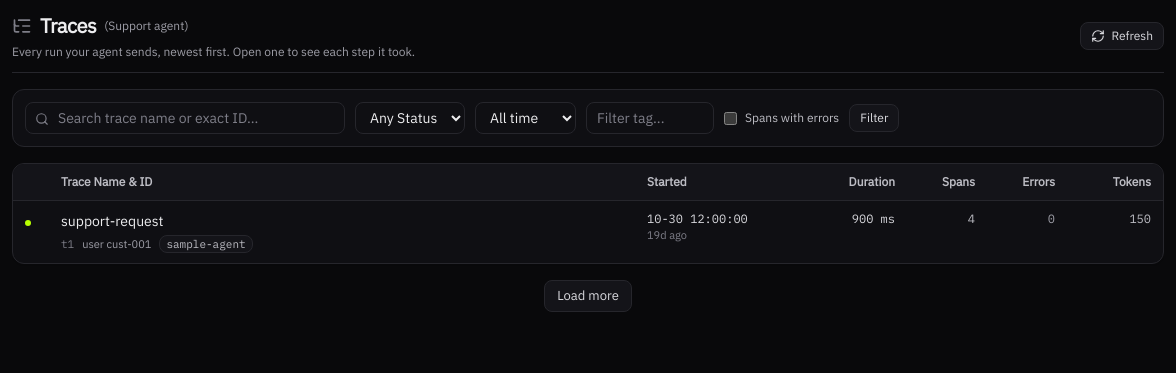
Scenario: TracesPage › sends filters to the API and paginates with the cursor
Expected: the link "support-request" is shown, [61,212,163,230]
Select "Error" in the dropdown named "Status". click: {"x": 410, "y": 118}
box: [355,102,465,134]
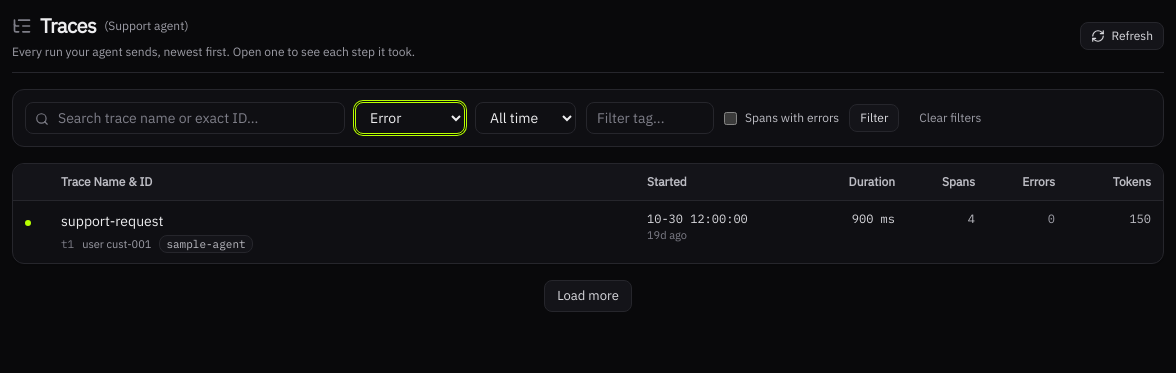
Type "refund" into the field named "Search traces". click: {"x": 185, "y": 118}
box: [25,102,345,134]
Then press Enter
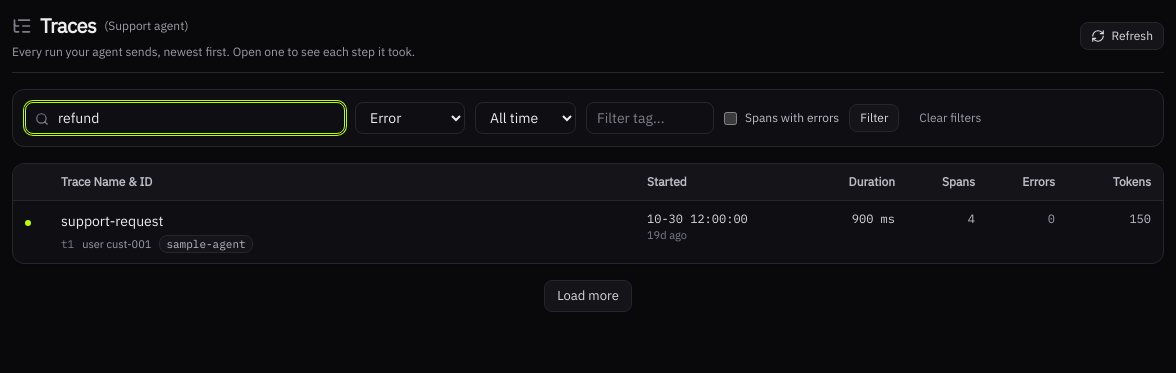
Click the checkbox labelled "Spans with errors". click: {"x": 730, "y": 118}
box: [724,112,737,124]
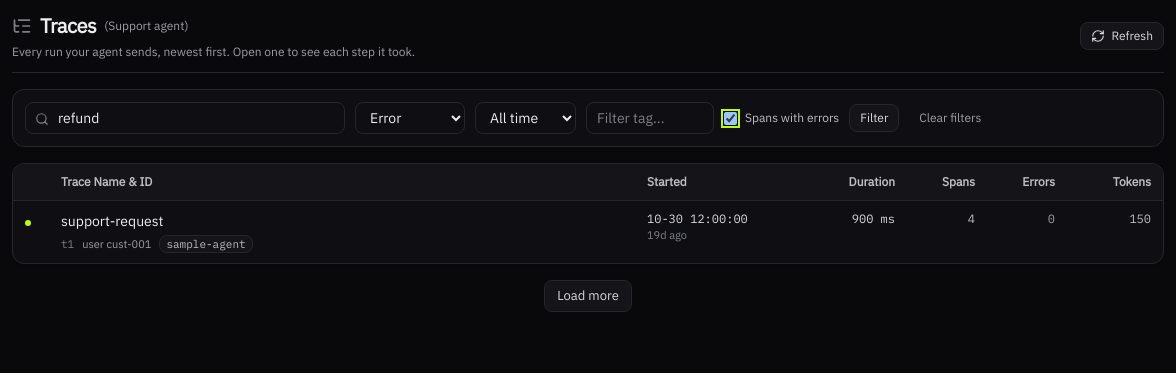
Click the button "Load more". click: {"x": 588, "y": 296}
box: [544,280,632,312]
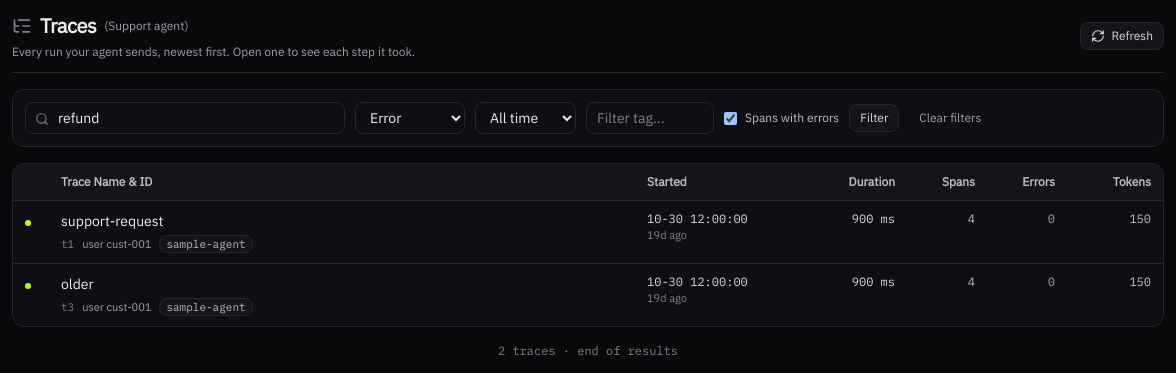
Expected: the link "older" is shown, [61,275,94,293]
